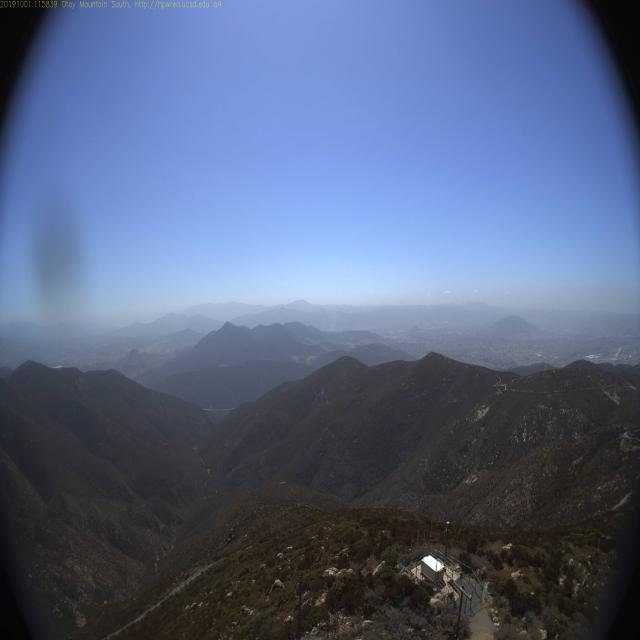smoke: (326, 308, 360, 354)
